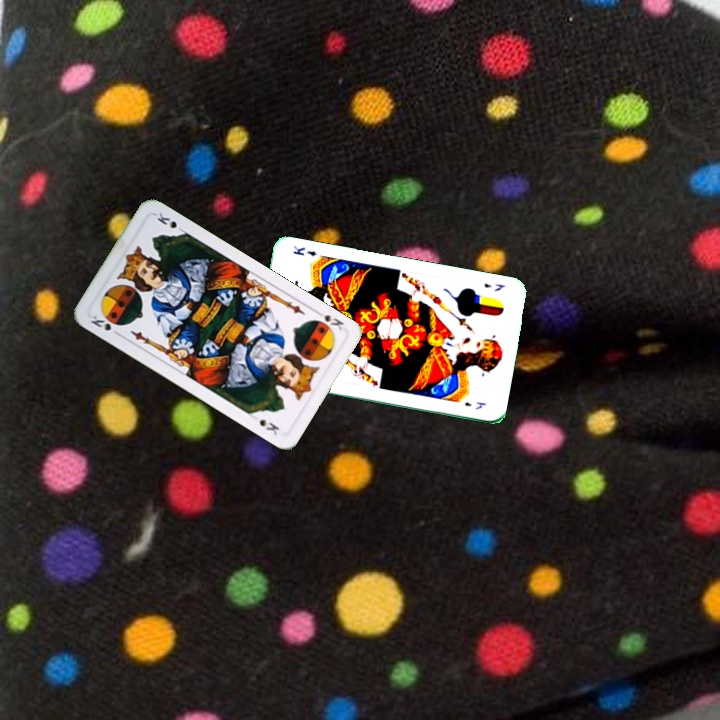EK: (480, 279, 507, 294)
SK: (86, 311, 123, 339), (311, 306, 347, 334)
